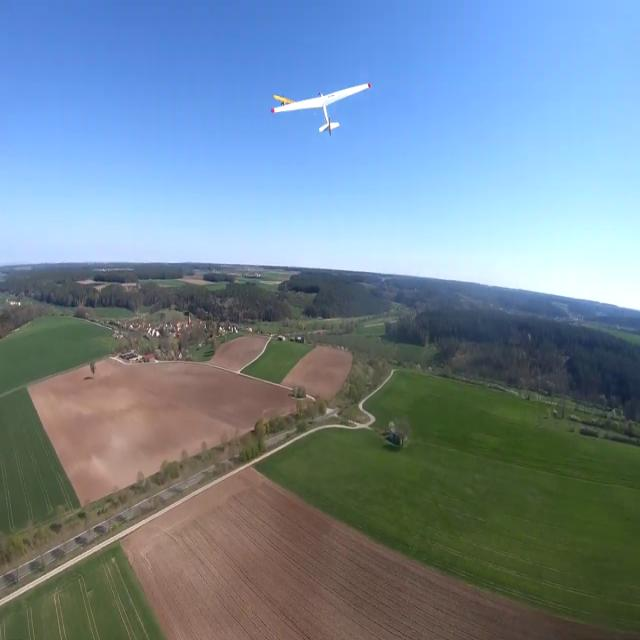iha: (301, 19, 339, 74)
